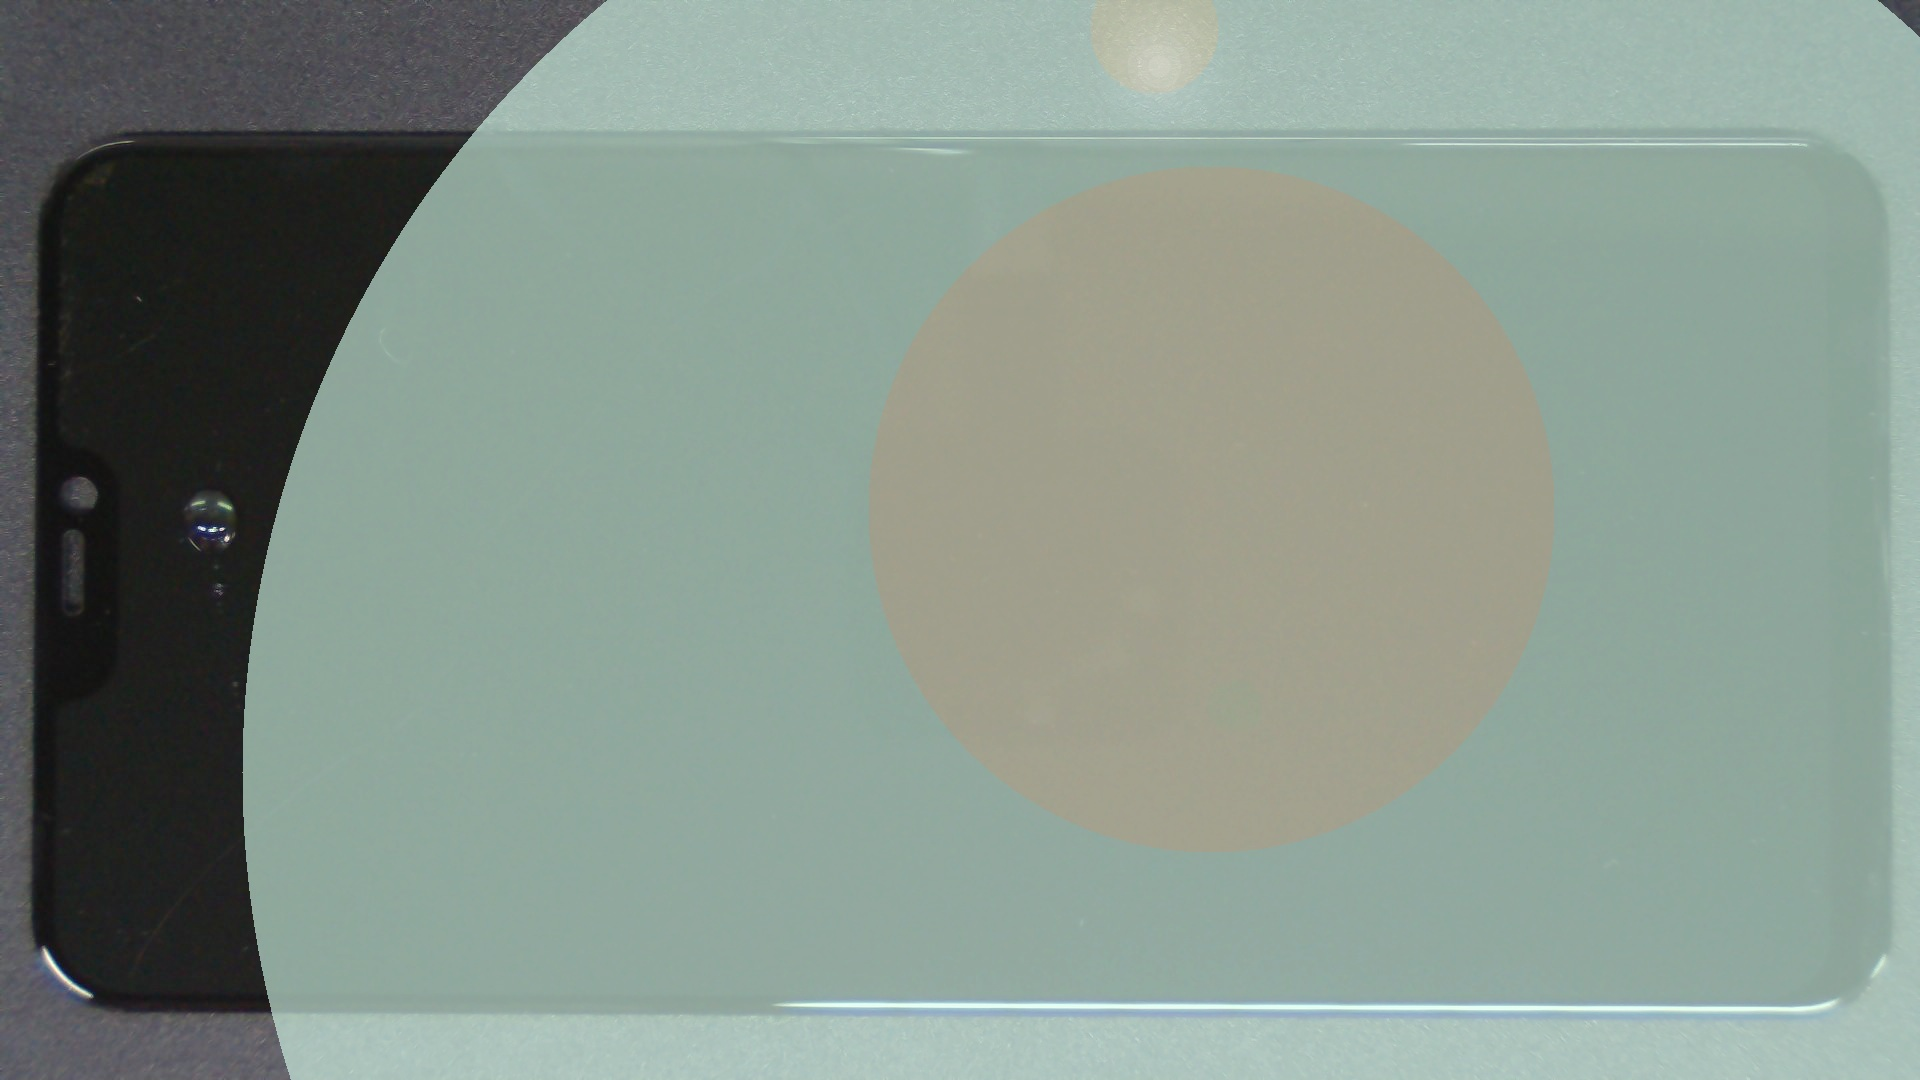oil: (102, 244, 301, 735)
